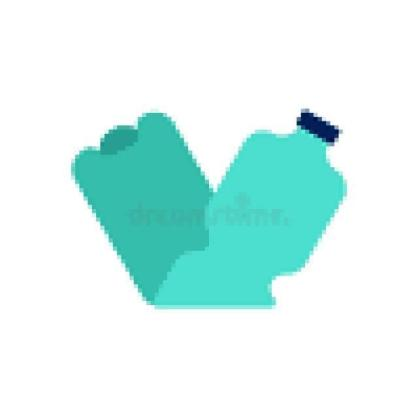bottle: (55, 91, 355, 328)
cap: (296, 105, 343, 148)
